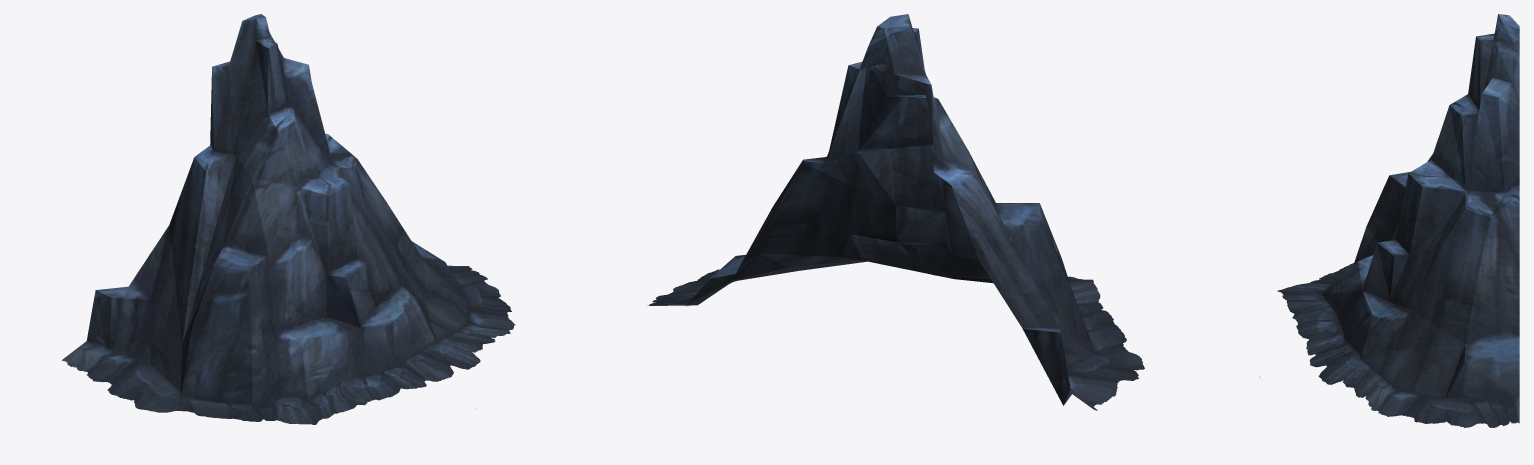
The model's file is mine_wall_footer_01.fbx.
The picture shows the model from 3 angles, left to right: view 1: azimuth 30°, elevation 25°; view 2: azimuth 150°, elevation 25°; view 3: azimuth 270°, elevation 25°; orthographic projection. The views are drawn at different scales.
Visible parts, largest first — view 1: obj0.002; view 2: obj0.002; view 3: obj0.002.
Part boxes in pixels (x1,y1,x2,y2): obj0.002: [62, 14, 515, 424]; obj0.002: [647, 14, 1144, 410]; obj0.002: [1259, 14, 1519, 427].
Bounding box in the file's own units: 7.58 × 4.85 × 3.89.
